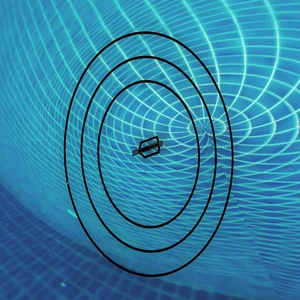circle: (42, 22, 243, 282)
submarine: (137, 139, 163, 158)
